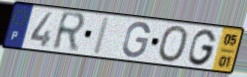4: (28, 11, 54, 48)
G: (120, 21, 152, 60), (187, 28, 218, 67)
I: (91, 15, 113, 56)
O: (156, 24, 190, 64)
R: (50, 10, 88, 54)
